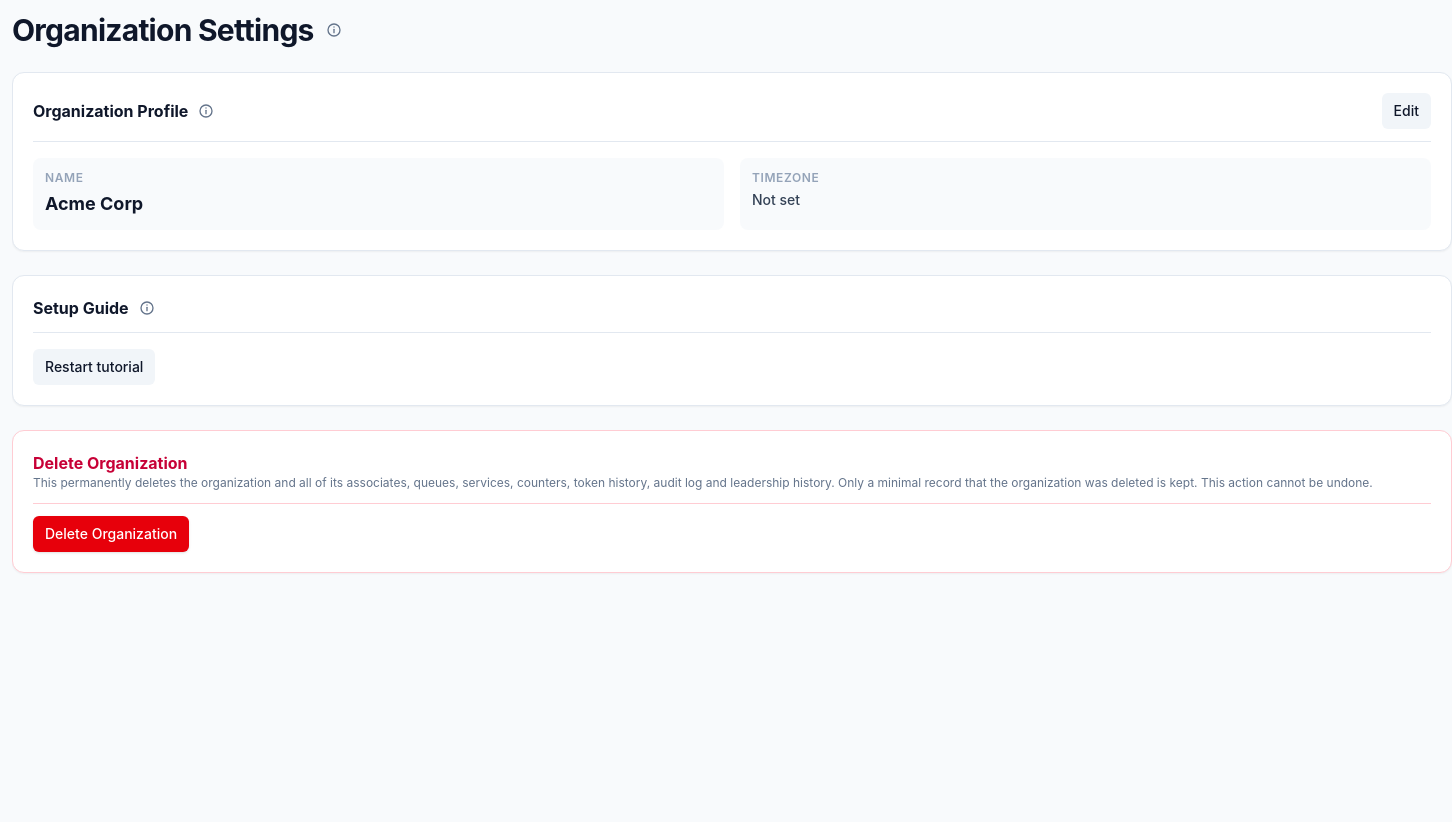
Test: OrganizationSettingsPage — organization deletion is unaffected › still requires typing the organization name to confirm
What coordinates should you click on to do the following:
click the button "Delete Organization"
I would click on:
 (111, 534)
Its box is [33, 516, 189, 552].
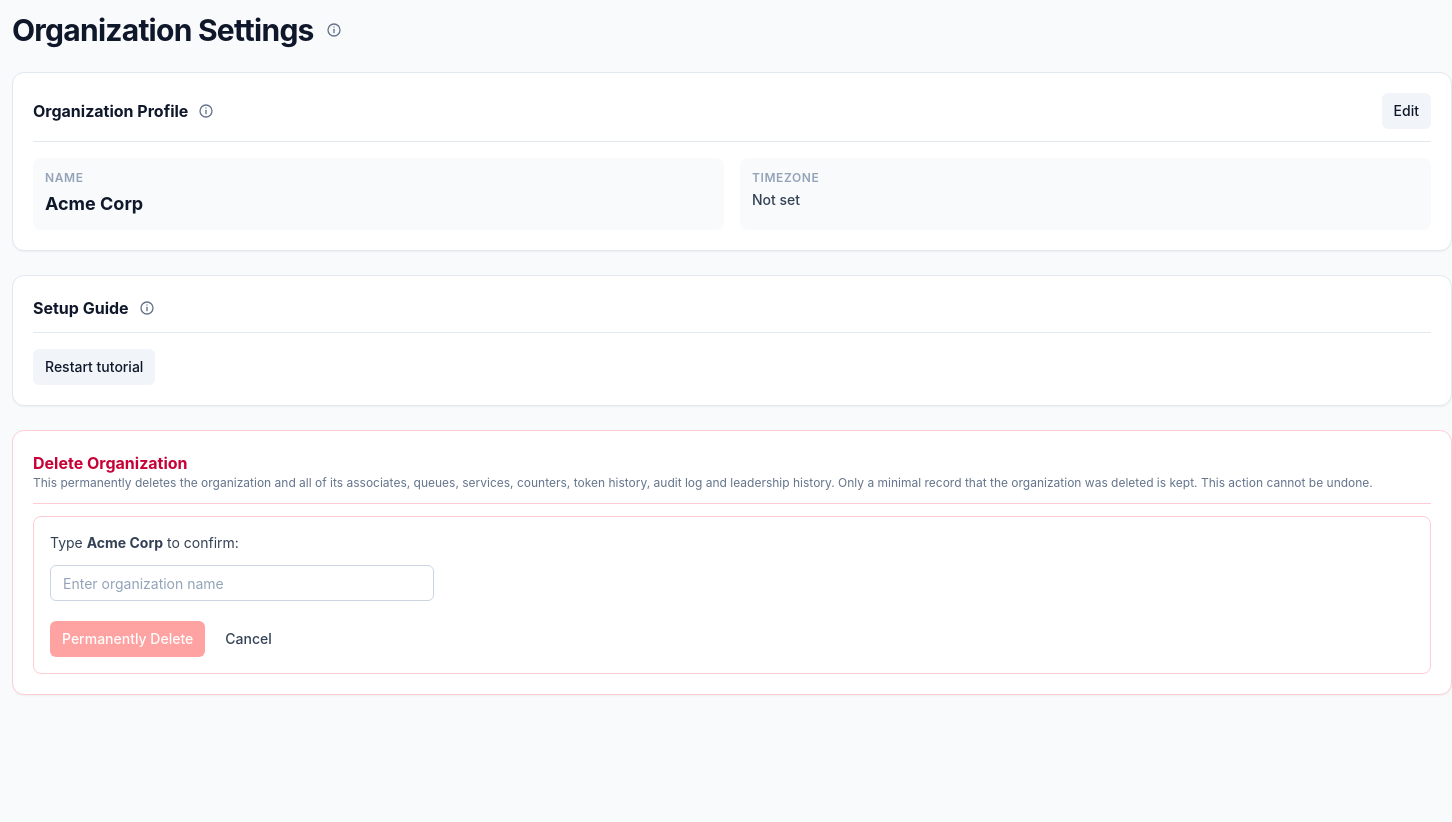
Expected: the text "Type Acme Corp to confirm:" is shown, [50, 534, 239, 551]
Expected: the text "Acme Corp" next to "Type" is shown, [87, 534, 163, 551]
Expected: the button "Permanently Delete" is disabled, [50, 621, 205, 657]
